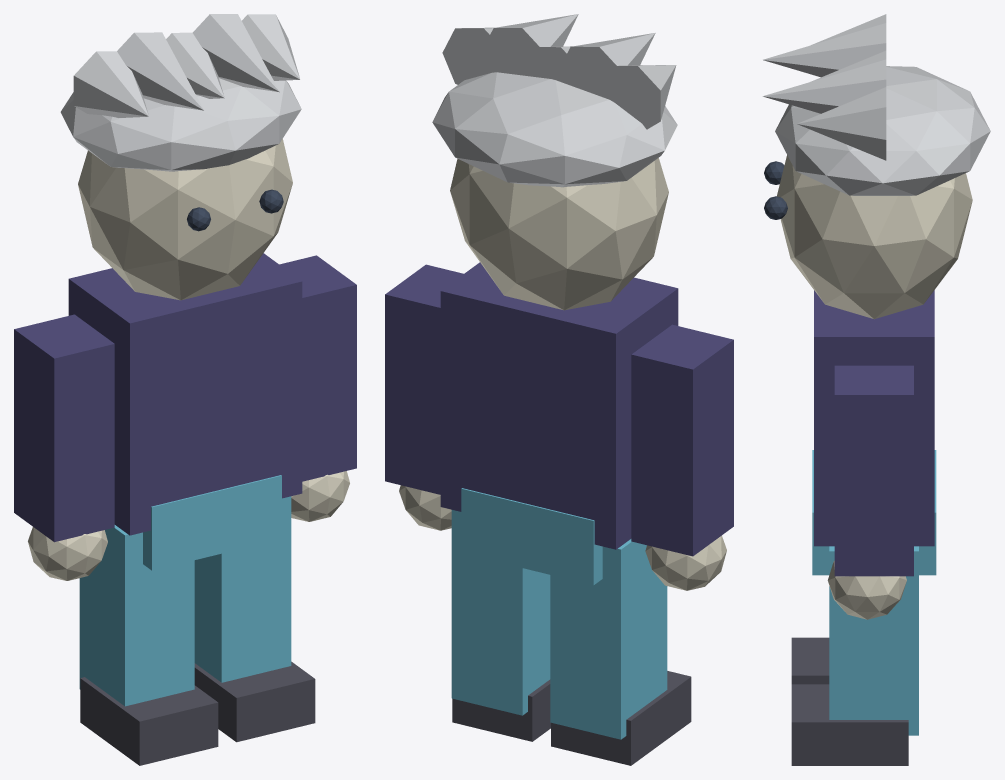
Rendered from noelle.glb.
The picture shows the model from 3 angles, left to right: view 1: azimuth 30°, elevation 25°; view 2: azimuth 150°, elevation 25°; view 3: azimuth 270°, elevation 25°; orthographic projection. The views are drawn at different scales.
Parts seen in each view (by area): view 1: part_000, part_010, part_002, part_004, part_013, part_008, part_006, part_001, part_005, part_009, part_014, part_015 (+5 smaller); view 2: part_000, part_010, part_002, part_013, part_004, part_008, part_006, part_001, part_005, part_015, part_014, part_017 (+5 smaller); view 3: part_010, part_006, part_013, part_000, part_008, part_009, part_018, part_015, part_017, part_007, part_005, part_001 (+1 smaller).
Boxes of the visible parts, x1,y1,x2,y2 form: part_000: [68, 253, 302, 535]; part_010: [78, 139, 292, 300]; part_002: [14, 314, 114, 542]; part_004: [79, 525, 194, 706]; part_013: [60, 78, 301, 171]; part_008: [194, 496, 291, 682]; part_006: [279, 255, 356, 481]; part_001: [143, 475, 281, 570]; part_005: [80, 677, 218, 765]; part_009: [194, 661, 315, 742]; part_014: [73, 51, 148, 117]; part_015: [117, 32, 203, 110]; part_000: [440, 262, 678, 549]; part_010: [450, 158, 668, 310]; part_002: [631, 324, 733, 556]; part_013: [432, 72, 677, 187]; part_004: [550, 539, 667, 739]; part_008: [451, 510, 550, 715]; part_006: [385, 264, 463, 494]; part_001: [461, 488, 602, 585]; part_005: [551, 671, 691, 765]; part_015: [558, 33, 655, 103]; part_014: [596, 65, 676, 129]; part_017: [481, 14, 578, 77]; part_010: [777, 155, 972, 319]; part_006: [834, 365, 913, 576]; part_013: [775, 66, 990, 195]; part_000: [814, 290, 934, 546]; part_008: [829, 546, 918, 735]; part_009: [791, 684, 908, 765]; part_018: [797, 87, 886, 160]; part_015: [763, 23, 886, 77]; part_017: [763, 59, 886, 113]; part_007: [827, 561, 906, 619]; part_005: [791, 637, 829, 684]; part_001: [812, 450, 936, 575].
Size of the model in its own units: 1.03 by 2.17 by 0.6628.
